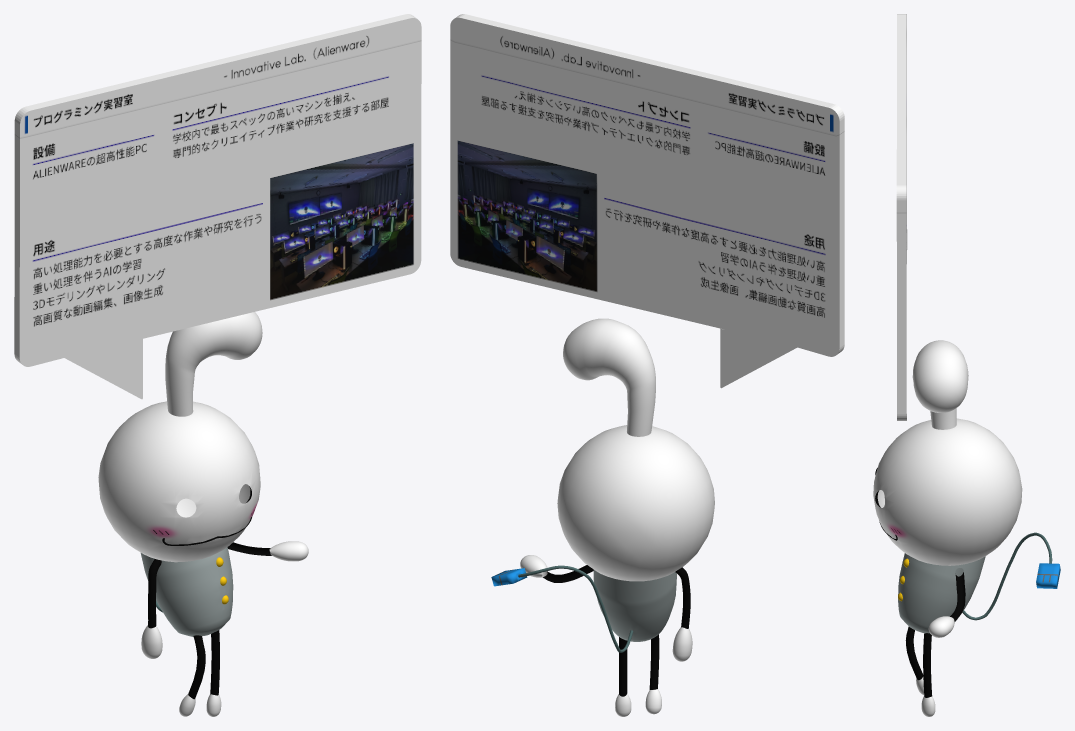
Rendered from innovative.glb.
3 views of the same model, side by side, from view 1: azimuth 30°, elevation 25°; view 2: azimuth 150°, elevation 25°; view 3: azimuth 270°, elevation 25° (orthographic). The views are drawn at different scales.
Parts seen in each view (by area): view 1: 吹き出し１, 頭, 胴, 触覚, 吹き出し２, 左拳; view 2: 吹き出し１, 頭, 触覚, 胴, 吹き出し２, 尻尾; view 3: 頭, 吹き出し１, 胴, 触覚, マウス, 尻尾, 左脚, 左拳, 右脚, 左腕.
Part boxes in pixels (x1,y1,x2,y2): 吹き出し１: (14, 14, 421, 366); 頭: (98, 401, 260, 562); 胴: (140, 547, 233, 636); 触覚: (165, 312, 262, 416); 吹き出し２: (64, 339, 142, 399); 左拳: (269, 541, 308, 561); 吹き出し１: (450, 14, 844, 356); 頭: (557, 425, 714, 581); 触覚: (563, 318, 655, 436); 胴: (593, 570, 676, 641); 吹き出し２: (720, 328, 797, 388); 尻尾: (518, 565, 633, 652); 頭: (873, 418, 1022, 565); 吹き出し１: (896, 14, 907, 420); 胴: (898, 553, 985, 633); 触覚: (912, 340, 968, 429); マウス: (1036, 563, 1060, 588); 尻尾: (962, 532, 1052, 620); 左脚: (923, 633, 932, 697); 左拳: (928, 616, 954, 637); 右脚: (905, 626, 923, 680); 左腕: (950, 572, 965, 621).
Size of the model in its own units: 14.43 by 22.91 by 6.36.
12 materials, 2 textured.
